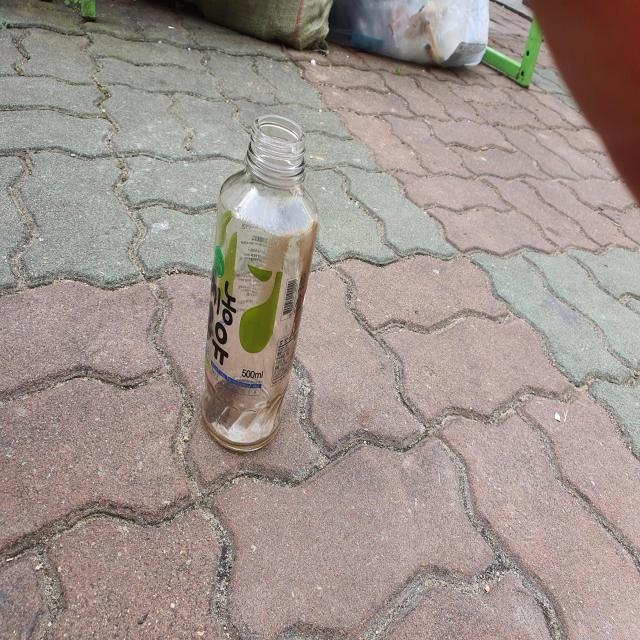glass: (201, 114, 318, 451)
